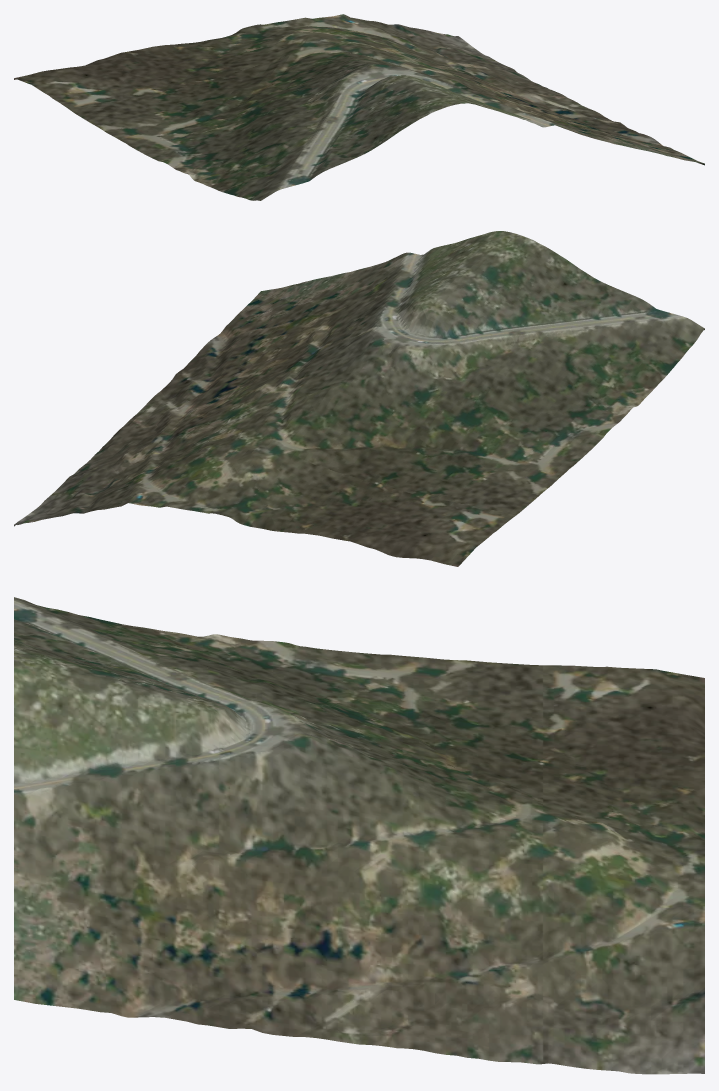
The picture shows the model from 3 angles, top to bottom: view 1: azimuth 30°, elevation 25°; view 2: azimuth 150°, elevation 25°; view 3: azimuth 270°, elevation 25°; orthographic projection. The views are drawn at different scales.
Size of the model in its own units: 250 by 94.04 by 241.
Materials: 1 (1 with a texture image).
